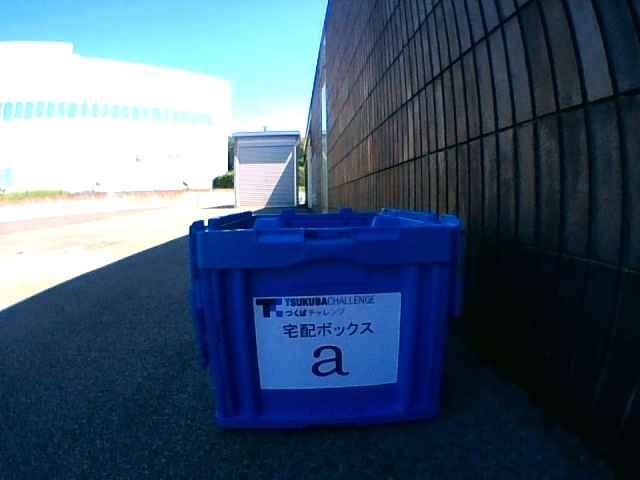blue_box: (189, 207, 462, 428)
tag_a: (265, 299, 392, 384)
